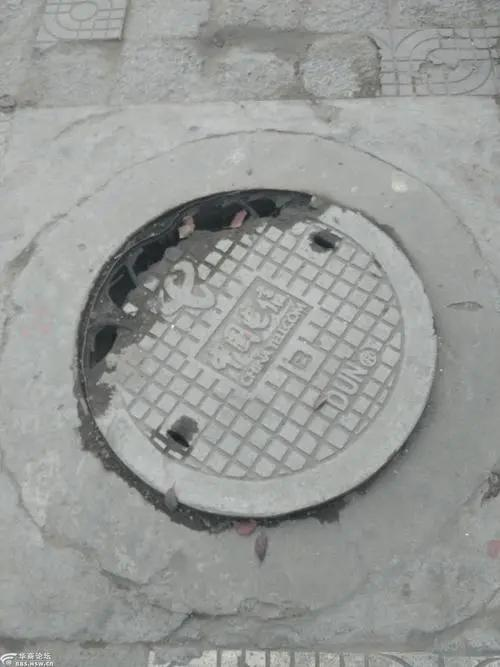wellcover: (71, 180, 462, 543)
